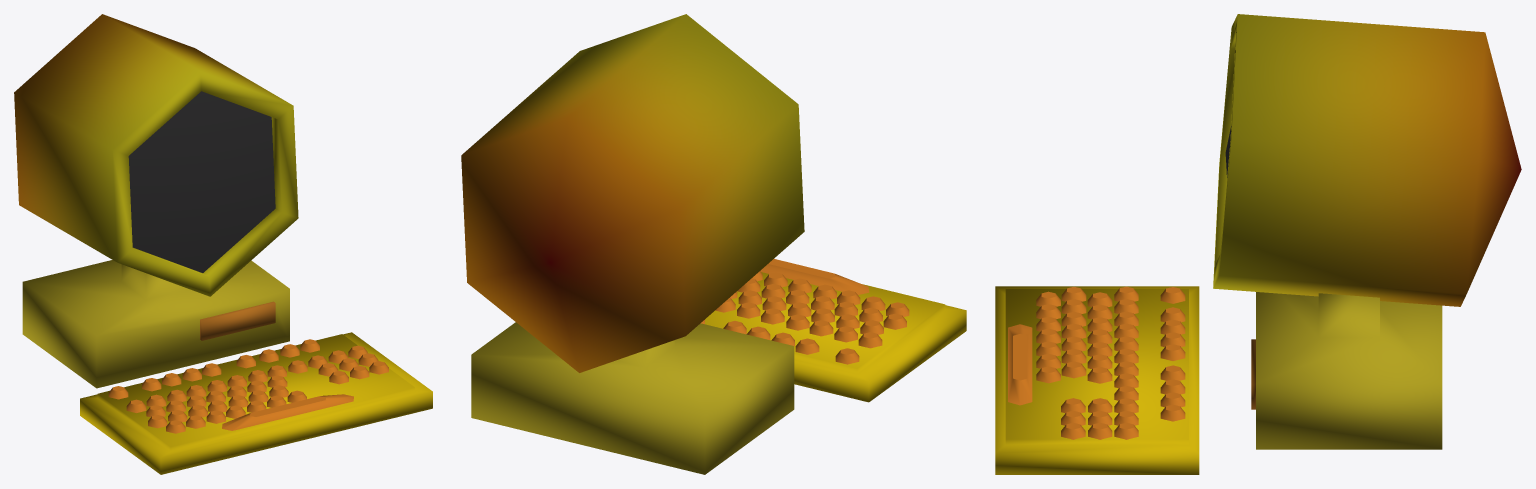
Rendered from Assets2Arthur.fbx_computadorAbelha.fbx.
3 views of the same model, side by side, from view 1: azimuth 30°, elevation 25°; view 2: azimuth 150°, elevation 25°; view 3: azimuth 270°, elevation 25° (orthographic). The views are drawn at different scales.
Visible parts, largest first — view 1: computadorAbelha; view 2: computadorAbelha; view 3: computadorAbelha.
Boxes of the visible parts, bbox=[...] form: computadorAbelha: bbox=[14, 14, 432, 474]; computadorAbelha: bbox=[461, 14, 966, 474]; computadorAbelha: bbox=[995, 14, 1521, 474].
Size of the model in its own units: 77.97 by 82.12 by 104.
